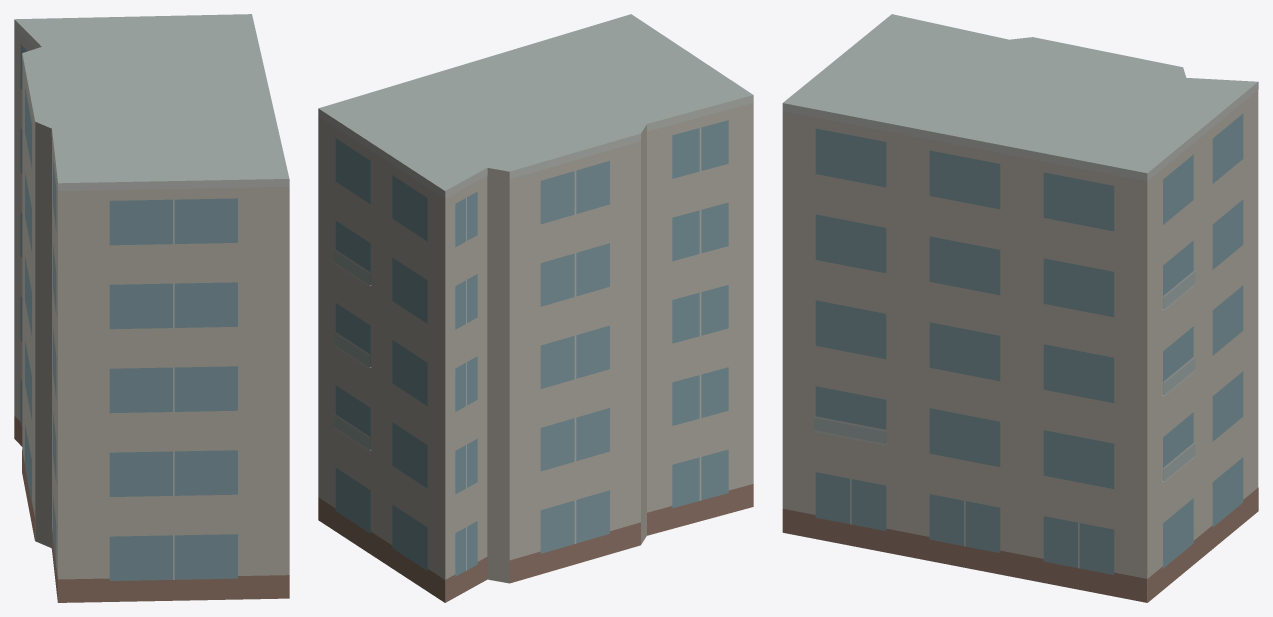
Rendered from survey-upis-33016369.glb.
3 renders of one model, left to right at view 1: azimuth 30°, elevation 25°; view 2: azimuth 150°, elevation 25°; view 3: azimuth 270°, elevation 25°, orthographic. The views are drawn at different scales.
Visible parts, largest first — view 1: survey-upis-33016369.tmp; view 2: survey-upis-33016369.tmp; view 3: survey-upis-33016369.tmp.
Boxes of the visible parts, <box> form: survey-upis-33016369.tmp: <box>14,14,289,602</box>; survey-upis-33016369.tmp: <box>318,14,753,602</box>; survey-upis-33016369.tmp: <box>782,14,1258,602</box>.
Bounding box in the file's own units: 10.43 × 13.1 × 13.16.
